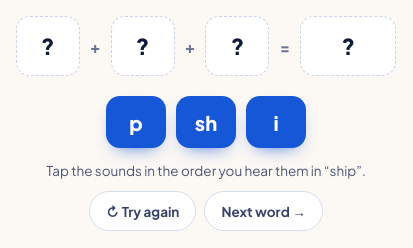
Scenario: BlendGame › shows the success message and the word when the sounds are tapped in order
Click the button "sh" at (206, 122), box [176,96,236,148]
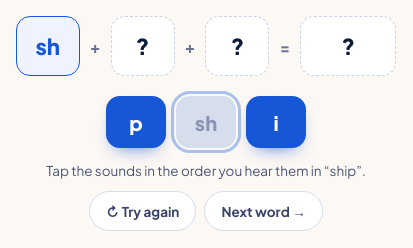
Click the button "i" at (276, 122), box [246,96,306,148]
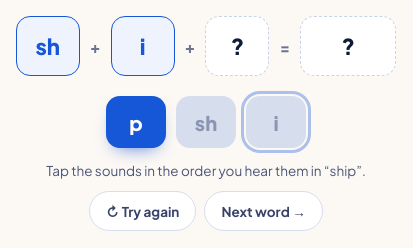
Click the button "p" at (136, 122), box [106,96,166,148]
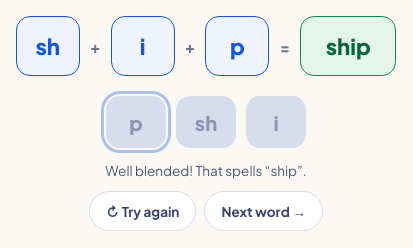
Check: the text "ship" is shown, box [300,16,396,76]
